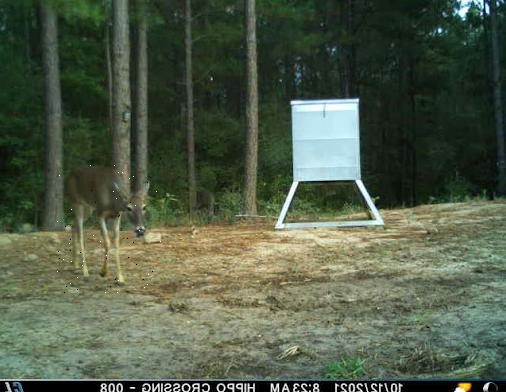Deer: (54, 158, 161, 293)
